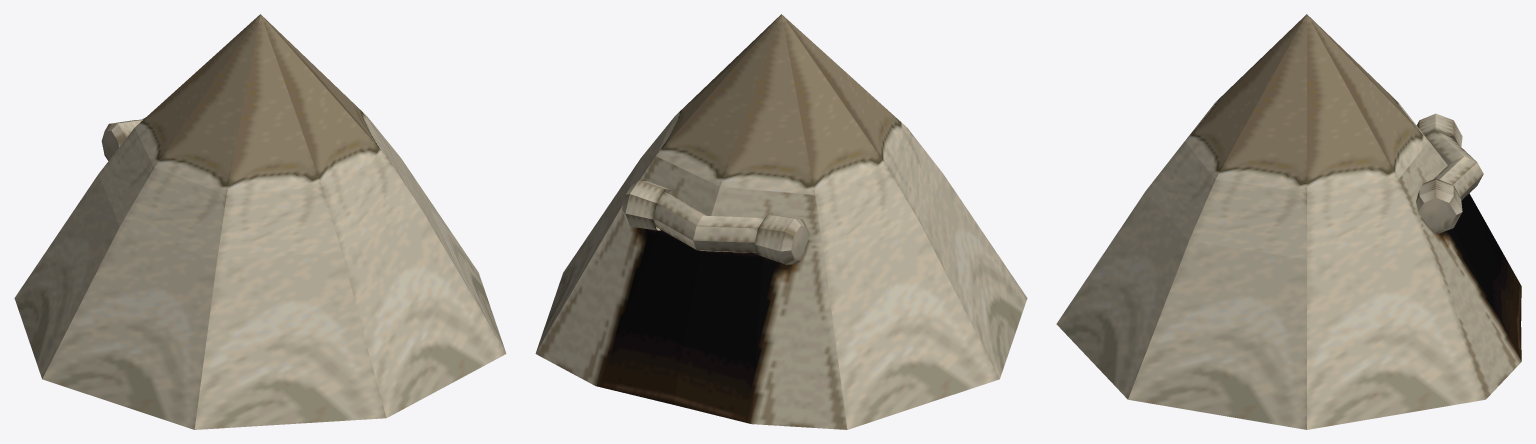
File: Poly_Tent_01.obj
3 views of the same model, side by side, from view 1: azimuth 30°, elevation 25°; view 2: azimuth 150°, elevation 25°; view 3: azimuth 270°, elevation 25° (orthographic).
Visible parts, largest first — view 1: Cube, Cube.001; view 2: Cube, Cube.001; view 3: Cube, Cube.001.
Boxes of the visible parts, box(x1,y1,x2,y2) form: Cube: box(14, 14, 506, 429); Cube.001: box(101, 117, 145, 160); Cube: box(535, 14, 1027, 429); Cube.001: box(622, 180, 809, 264); Cube: box(1056, 14, 1521, 429); Cube.001: box(1416, 113, 1483, 233).
Bounding box in the file's own units: 3.37 × 2.3 × 3.13.
Materials: 1 (1 with a texture image).
